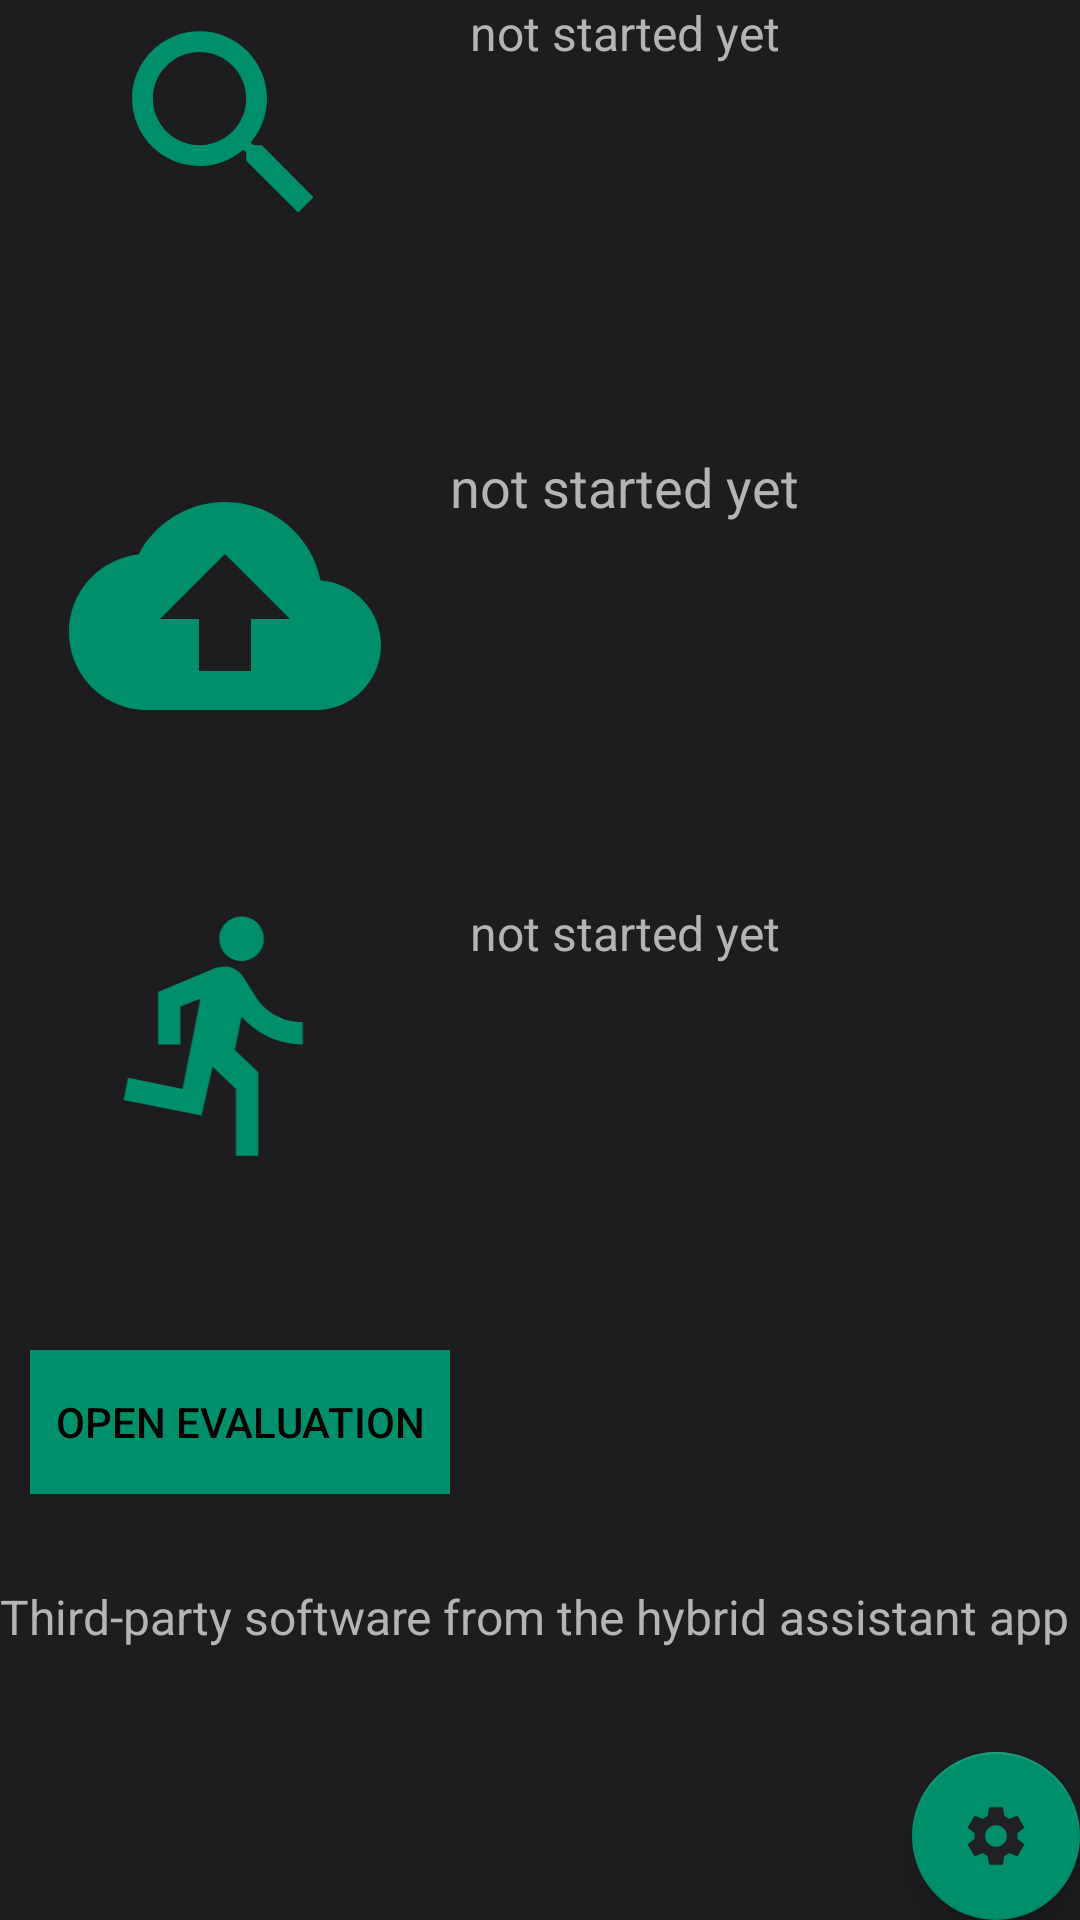

Where icons sit on this 1080×1920 app screen, as (x1, y1, x2, y2):
run: (123, 916, 303, 1156)
search: (132, 31, 314, 212)
settings: (912, 1752, 1080, 1920)
upload: (69, 502, 381, 710)
